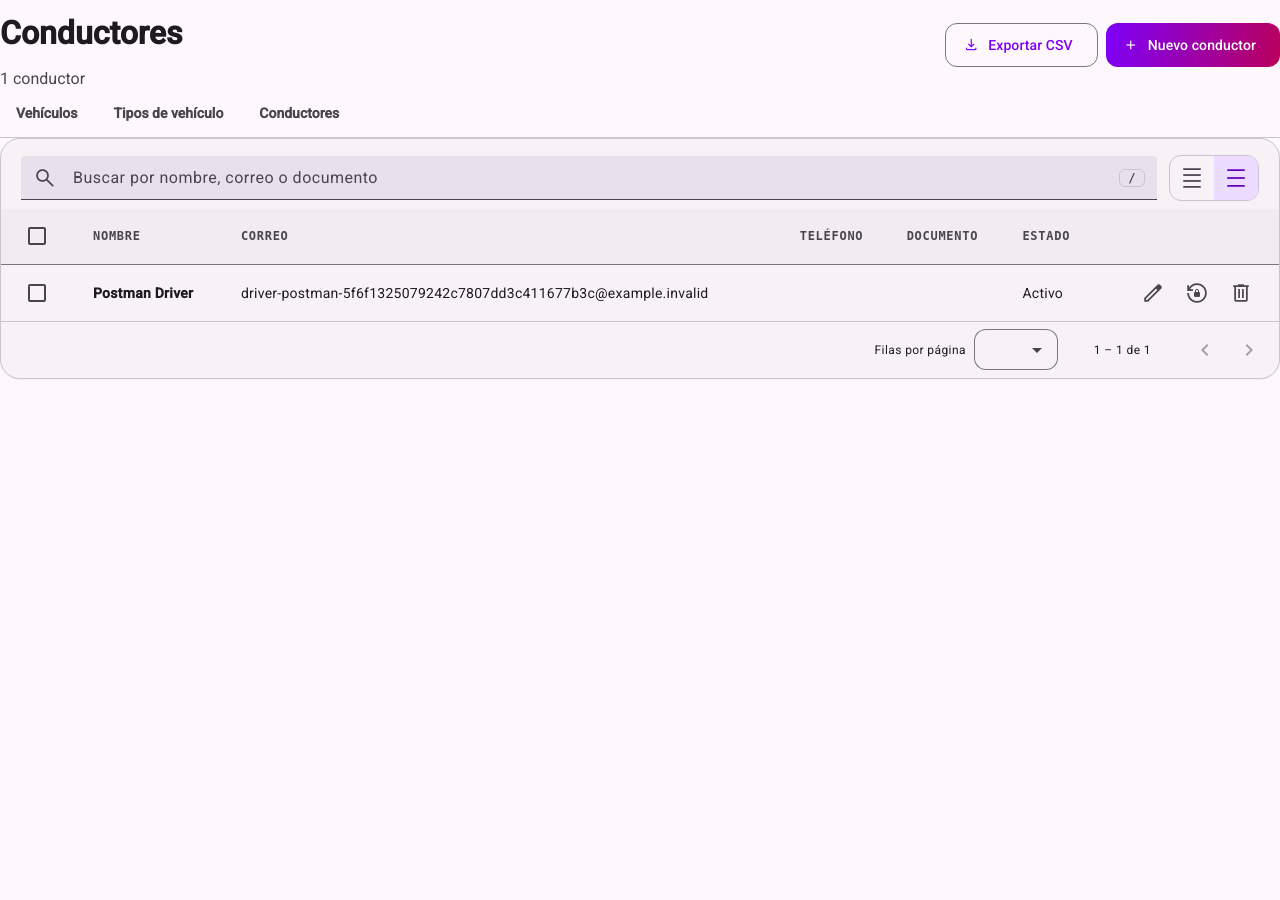
DriverListComponent › envía el enlace de restablecimiento tras confirmar y avisa con el correo
This screenshot has width=1280, height=900.
Click the button named "Enviar enlace de restablecimiento a Postman Driver" at (1197, 293), box [1175, 271, 1219, 315]
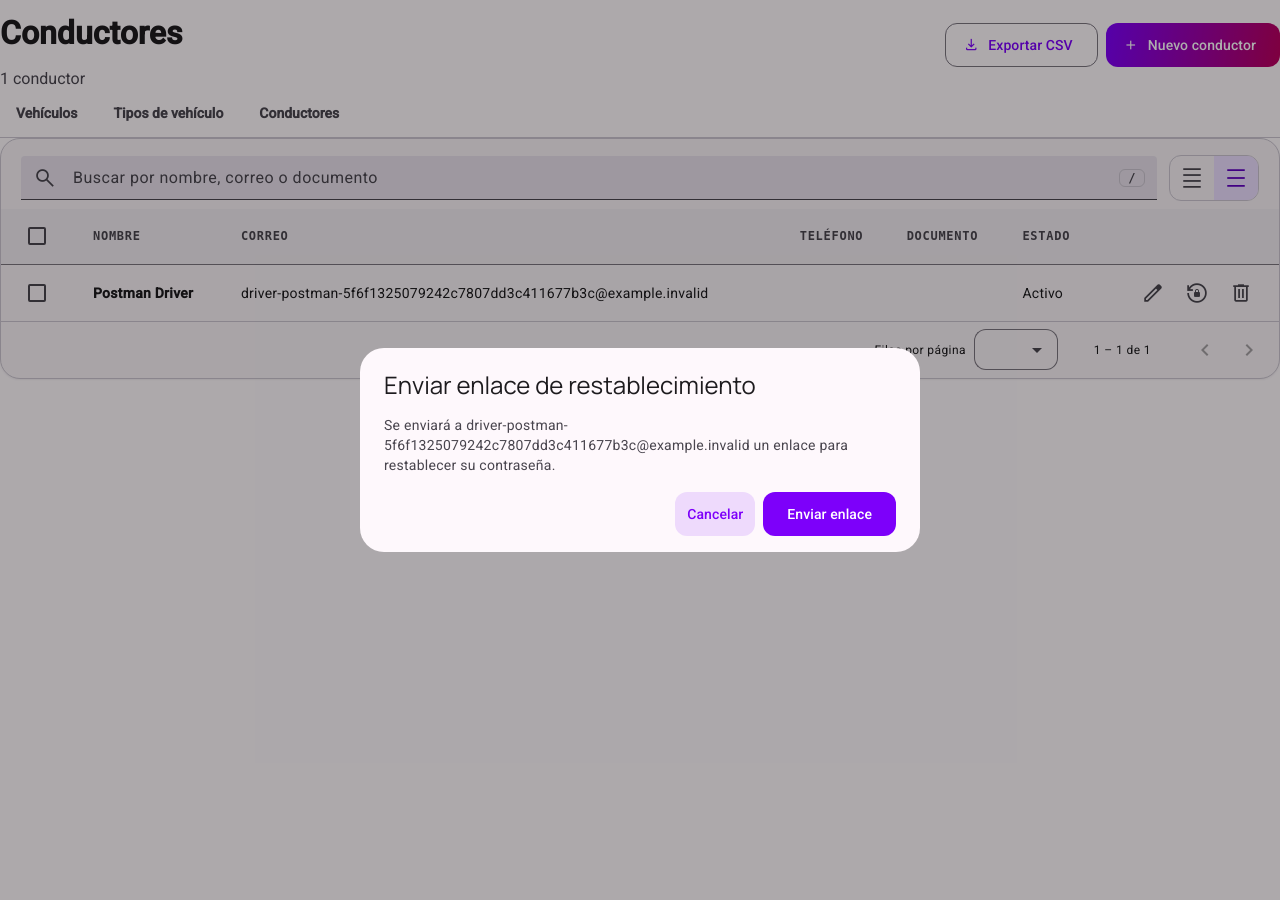
Check: the text "driver-postman-5f6f1325079242c7807dd3c411677b3c@example.invalid" is shown, box [384, 417, 848, 473]
Click the button "Enviar enlace" at (830, 514), box [763, 492, 896, 536]
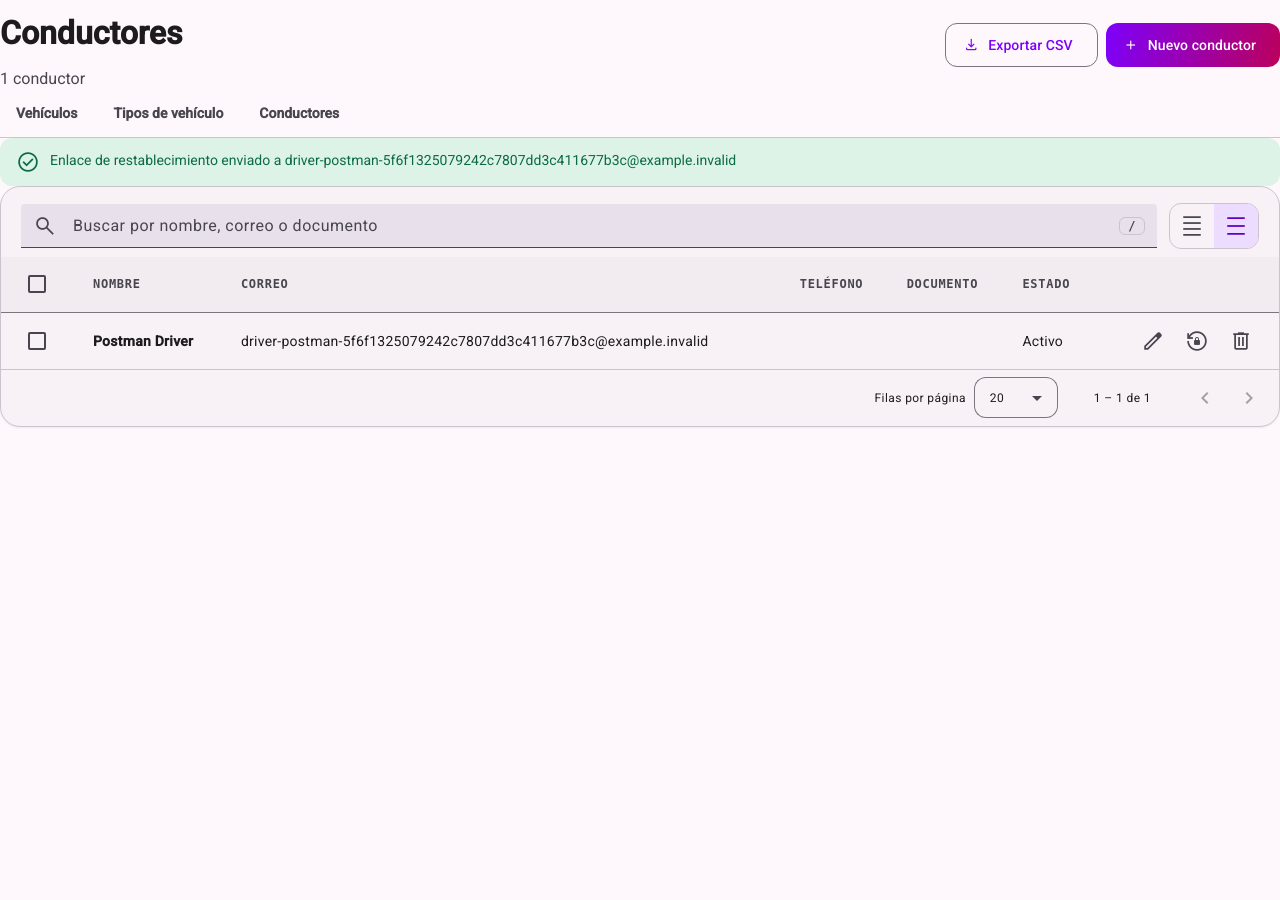
Check: the 1st message shows "driver-postman-5f6f1325079242c7807dd3c411677b3c@example.invalid", box [50, 152, 736, 168]
